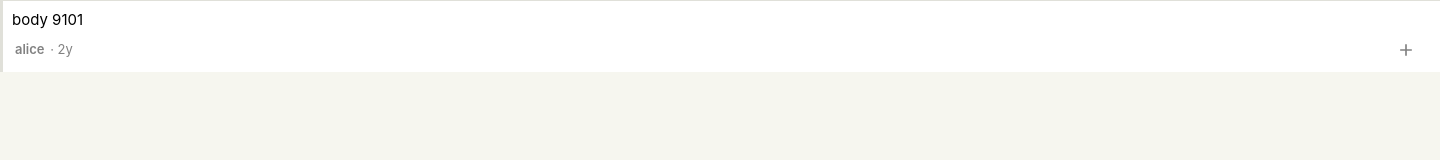
Test: <Comment> action toolbar › renders upvote, downvote, and reply controls when expanded
This screenshot has width=1440, height=160.
Expected: the text "body 9101" is shown, left=12, top=10, right=83, bottom=29
Click the button named "expand comment" at (1406, 50), box left=1384, top=32, right=1428, bottom=68
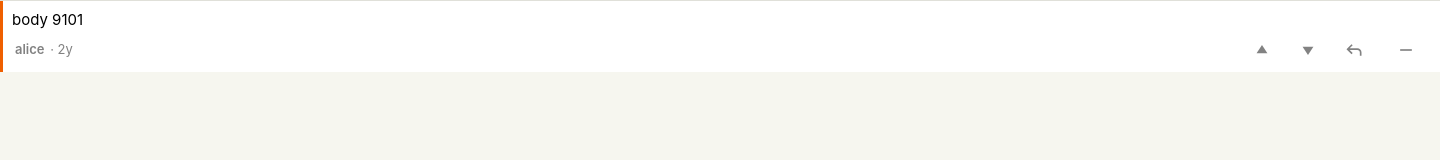
Expected: the button with test id "comment-downvote" is enabled, left=1286, top=32, right=1330, bottom=68
